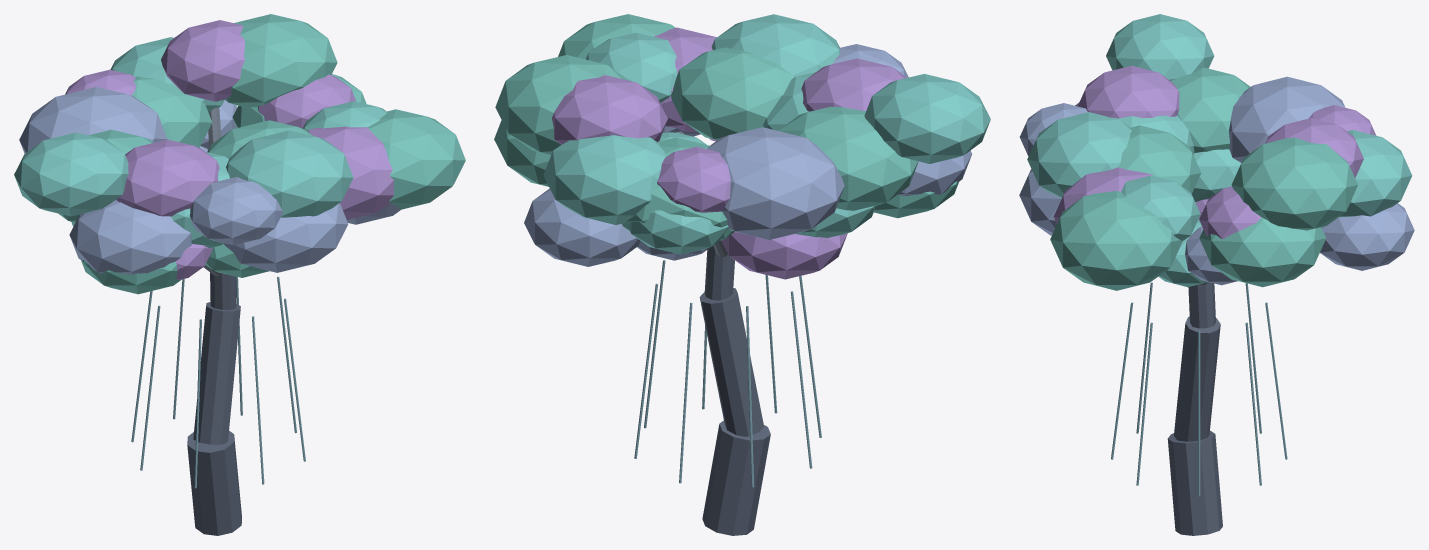
Rendered from hexcore_living_tree_07.glb.
The picture shows the model from 3 angles, left to right: view 1: azimuth 30°, elevation 25°; view 2: azimuth 150°, elevation 25°; view 3: azimuth 270°, elevation 25°; orthographic projection. The views are drawn at different scales.
Visible parts, largest first — view 1: world; view 2: world; view 3: world.
Boxes of the visible parts, x1,y1,x2,y2 form: world: [14, 14, 465, 535]; world: [494, 14, 990, 535]; world: [1019, 14, 1414, 535].
Bounding box in the file's own units: 24.42 × 24.96 × 20.63.
